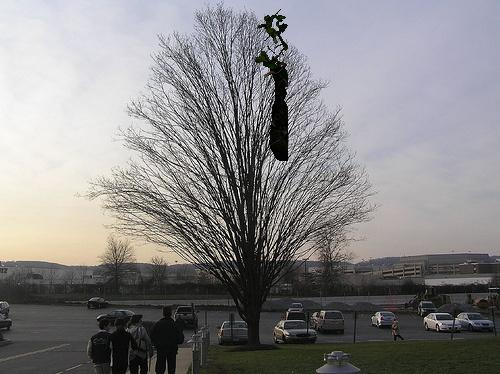tampered: (256, 10, 288, 161)
